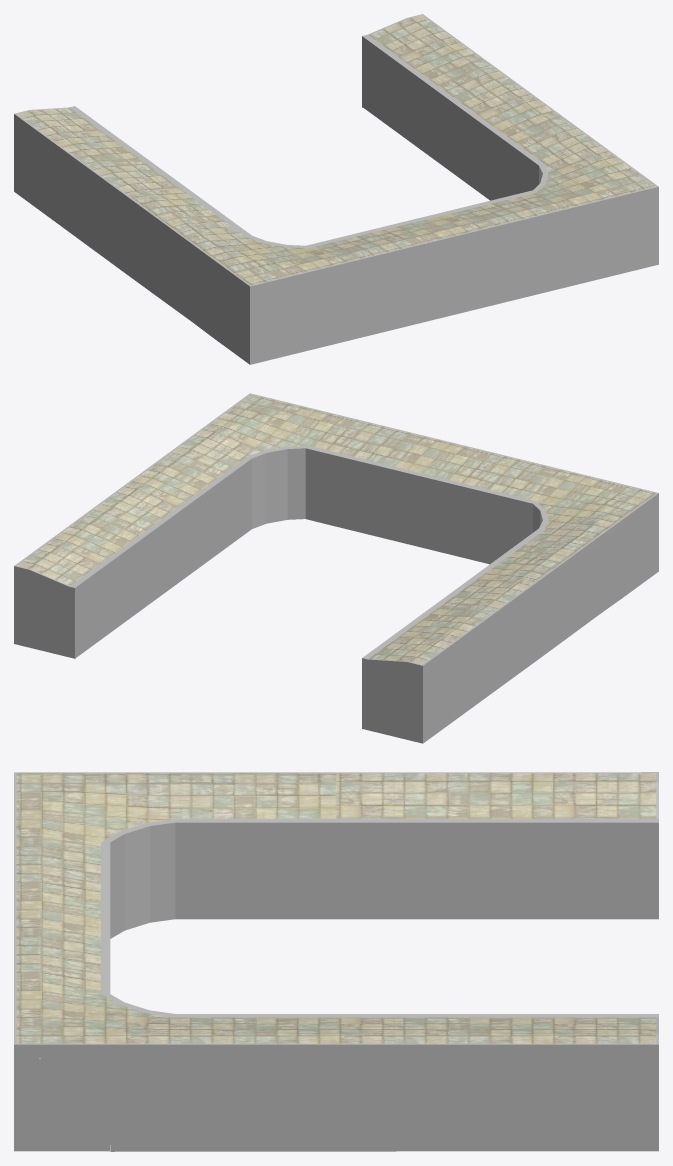
The model's file is road_02_end_hedge.fbx.
3 views of the same model, one above another, from view 1: azimuth 30°, elevation 25°; view 2: azimuth 150°, elevation 25°; view 3: azimuth 270°, elevation 25° (orthographic). The views are drawn at different scales.
Visible parts, largest first — view 1: road_02_cv_end_hedge; view 2: road_02_cv_end_hedge; view 3: road_02_cv_end_hedge.
Part boxes in pixels (x1,y1,x2,y2): road_02_cv_end_hedge: (14, 14, 658, 364); road_02_cv_end_hedge: (14, 393, 658, 743); road_02_cv_end_hedge: (14, 772, 658, 1151).
Size of the model in its own units: 12 by 2.2 by 12.
